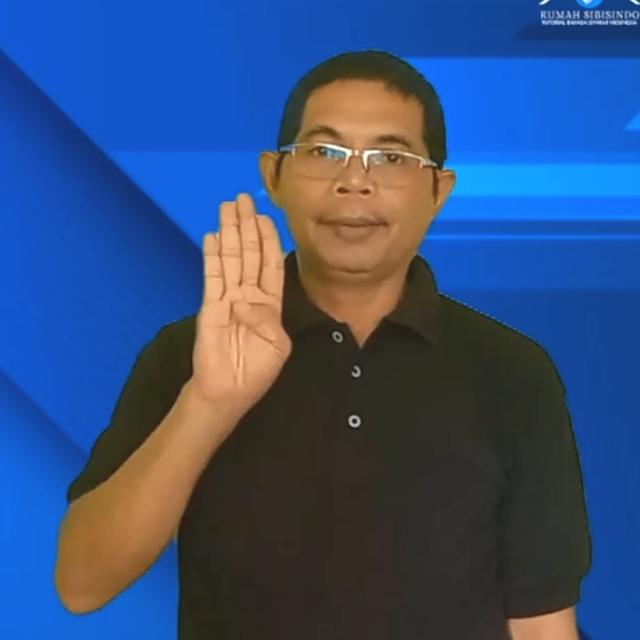B: (193, 192, 293, 410)
